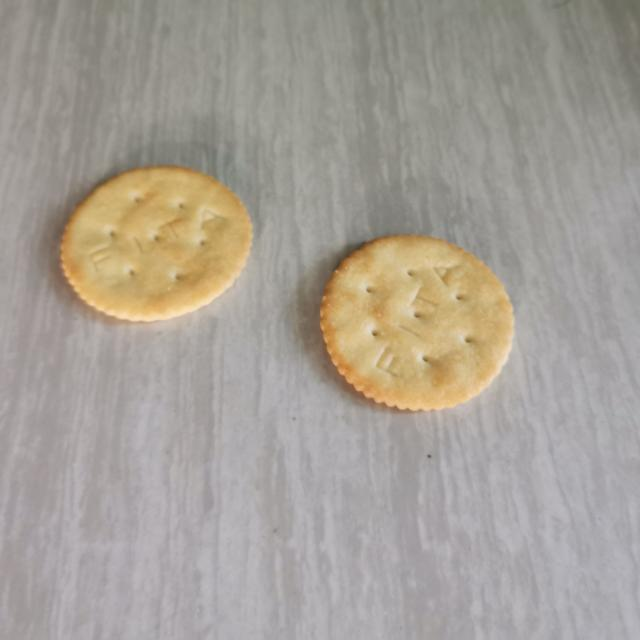Intact: (310, 228, 520, 416), (55, 156, 267, 333)
